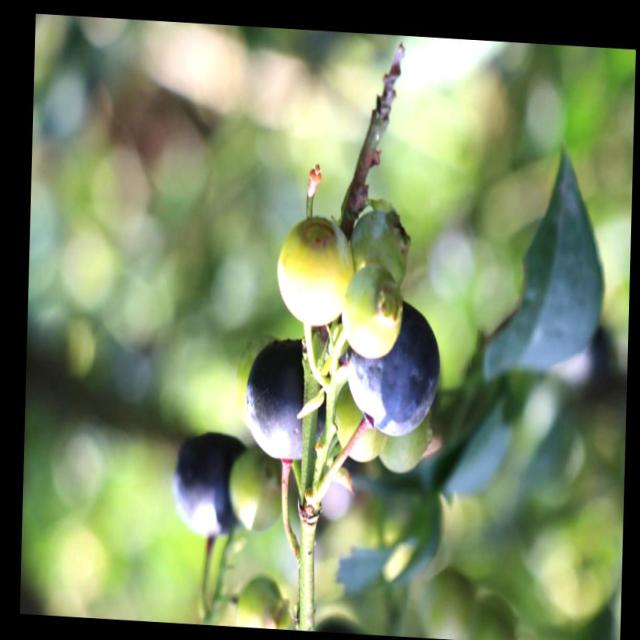blueberry: (342, 294, 442, 434), (245, 331, 330, 464), (172, 428, 249, 536)
blueberry-unripe: (271, 211, 355, 328), (341, 268, 403, 358), (226, 449, 282, 538), (348, 212, 413, 278), (229, 575, 290, 628)
